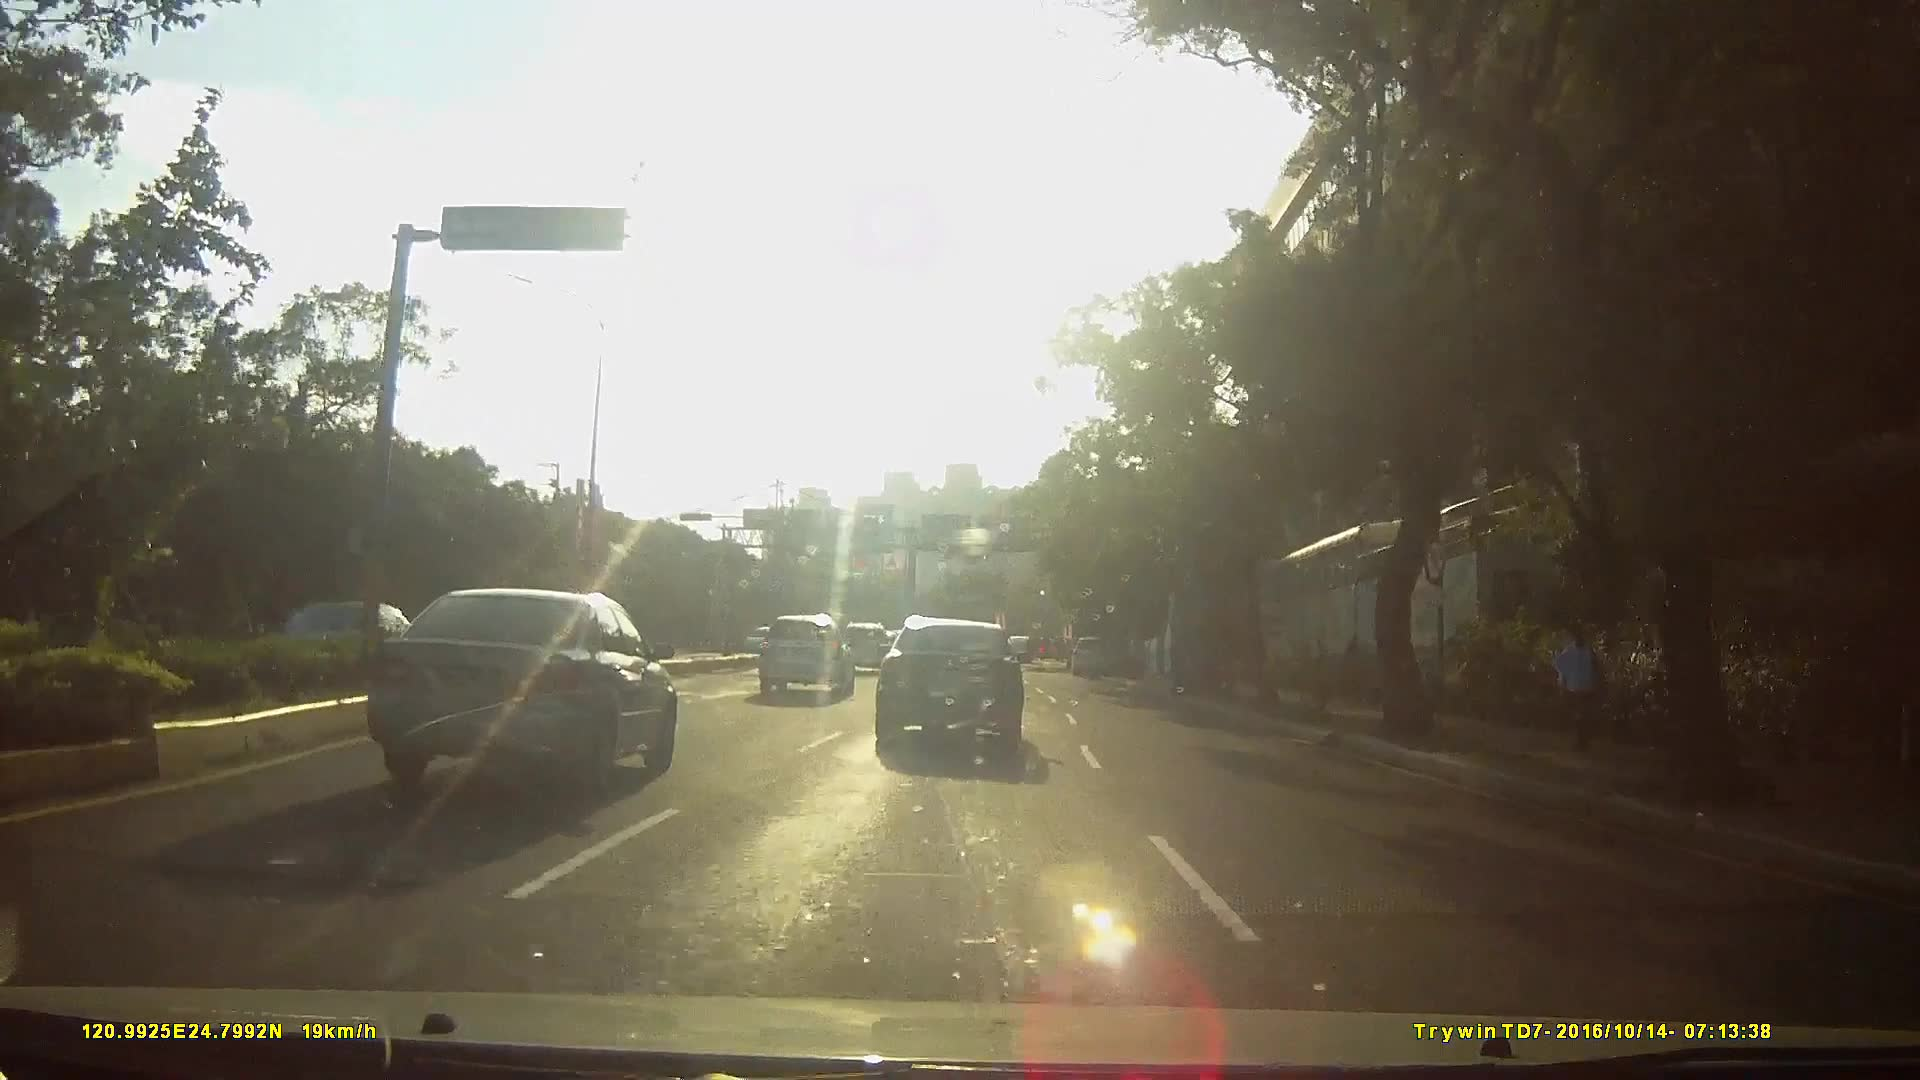pedestrian: (1553, 615, 1606, 746)
vehicle: (356, 581, 673, 794), (868, 614, 1040, 757), (752, 609, 852, 697), (835, 616, 889, 674), (1069, 631, 1119, 676), (735, 623, 783, 657)
